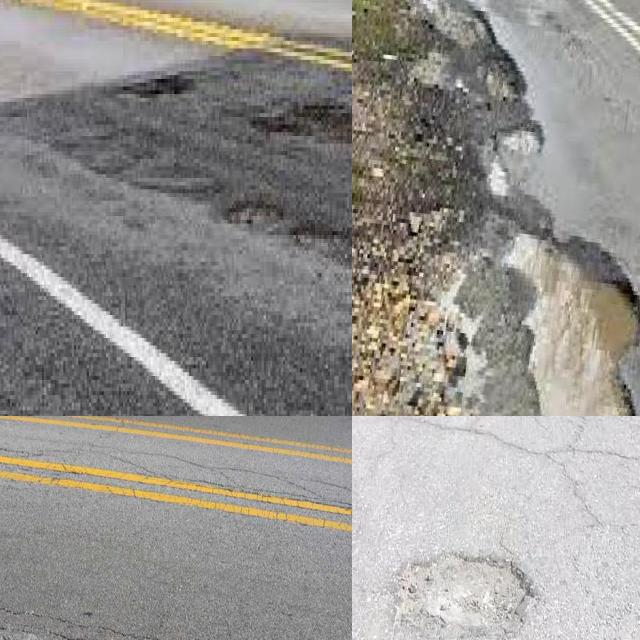Pothole: (408, 0, 551, 241), (495, 230, 640, 416), (396, 550, 536, 633), (262, 83, 352, 151), (287, 211, 352, 264), (225, 193, 284, 226), (117, 71, 185, 90), (502, 129, 541, 154), (488, 162, 510, 196)
